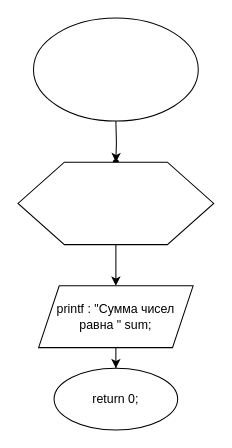
Some shapes in this 232 by 448 pixel diagram are drawn without their labels. The centre of each missing label's shape, as x and y in pixels:
"for (int i = 1; i <= n;i++) { sum = sum+i; }" belongs at point (115, 203).
"int n = 10; int sum =0;" belongs at point (115, 69).
